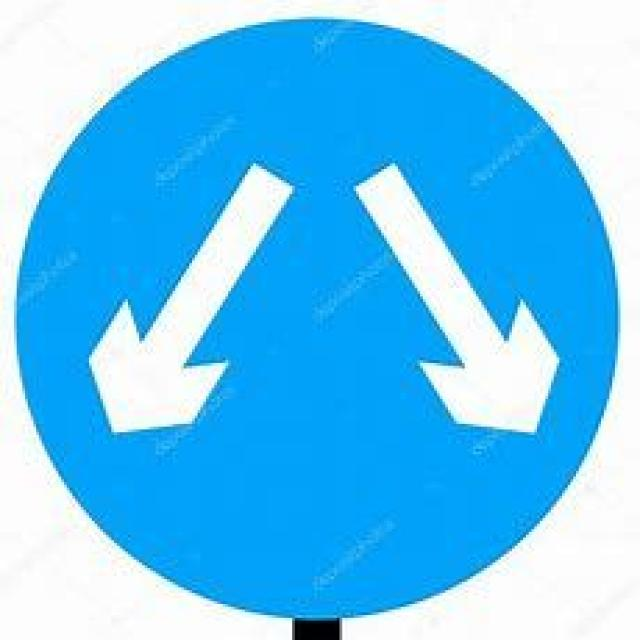no_overtaking: (11, 14, 615, 615)
